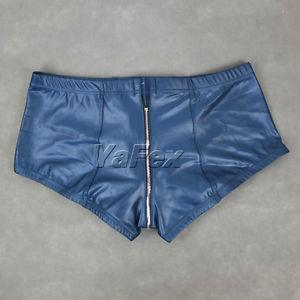C_shorts: (6, 60, 299, 245)
